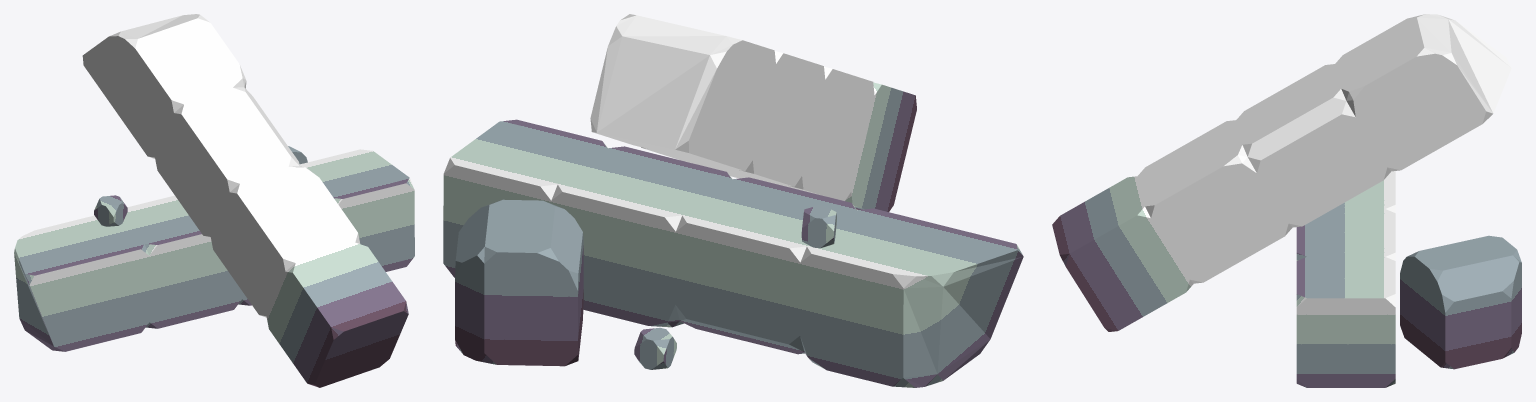
The model's file is Fallen Pillar 2.001.fbx.
The picture shows the model from 3 angles, left to right: view 1: azimuth 30°, elevation 25°; view 2: azimuth 150°, elevation 25°; view 3: azimuth 270°, elevation 25°; orthographic projection. The views are drawn at different scales.
Visible parts, largest first — view 1: Fallen Pillar 2.001; view 2: Fallen Pillar 2.001; view 3: Fallen Pillar 2.001.
Part boxes in pixels (left/top/right/bottom): Fallen Pillar 2.001: left=14, top=14, right=414, bottom=387; Fallen Pillar 2.001: left=443, top=14, right=1023, bottom=387; Fallen Pillar 2.001: left=1052, top=14, right=1521, bottom=387.
Bounding box in the file's own units: 416 × 260 × 411.
